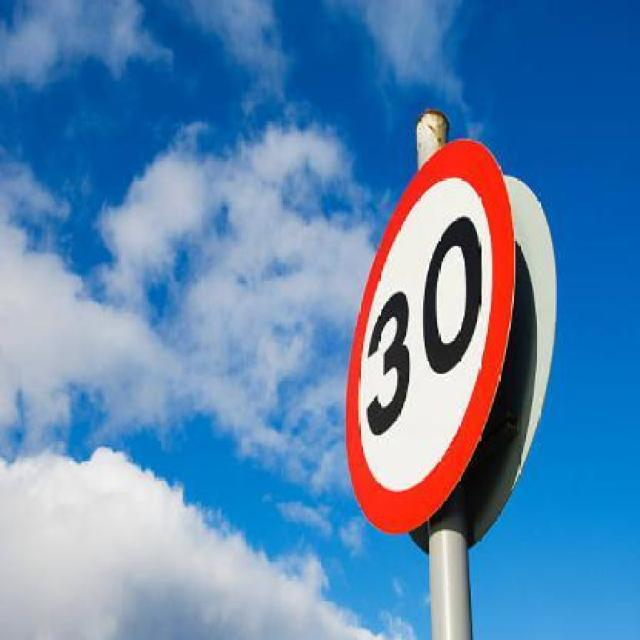Speed limit 30: (350, 133, 504, 536)
